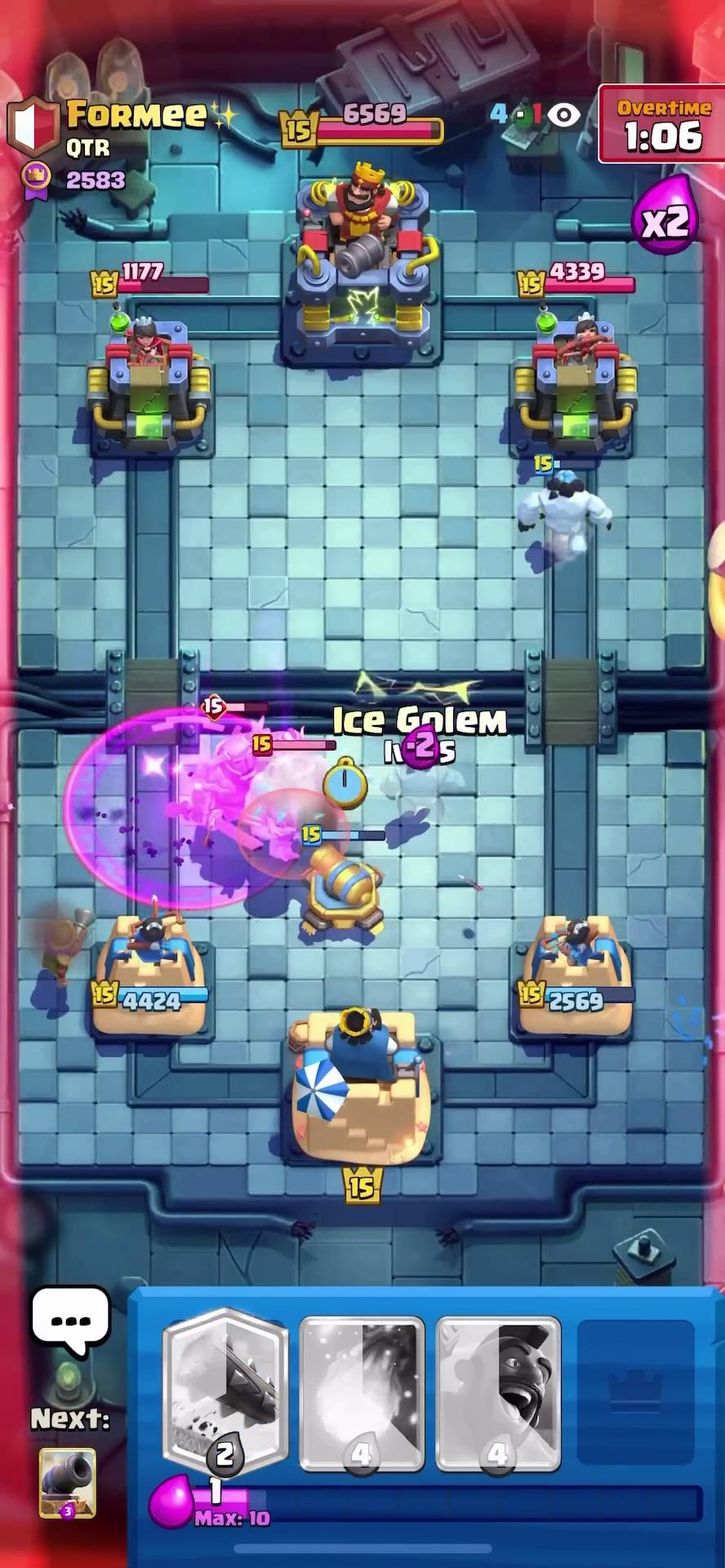cannon: (290, 837, 394, 939)
ice_golem: (510, 455, 606, 561)
musketeer: (24, 886, 110, 984)
